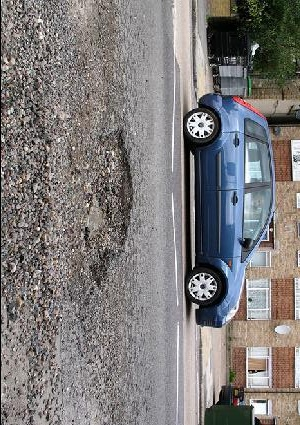pothole: (80, 127, 135, 289)
